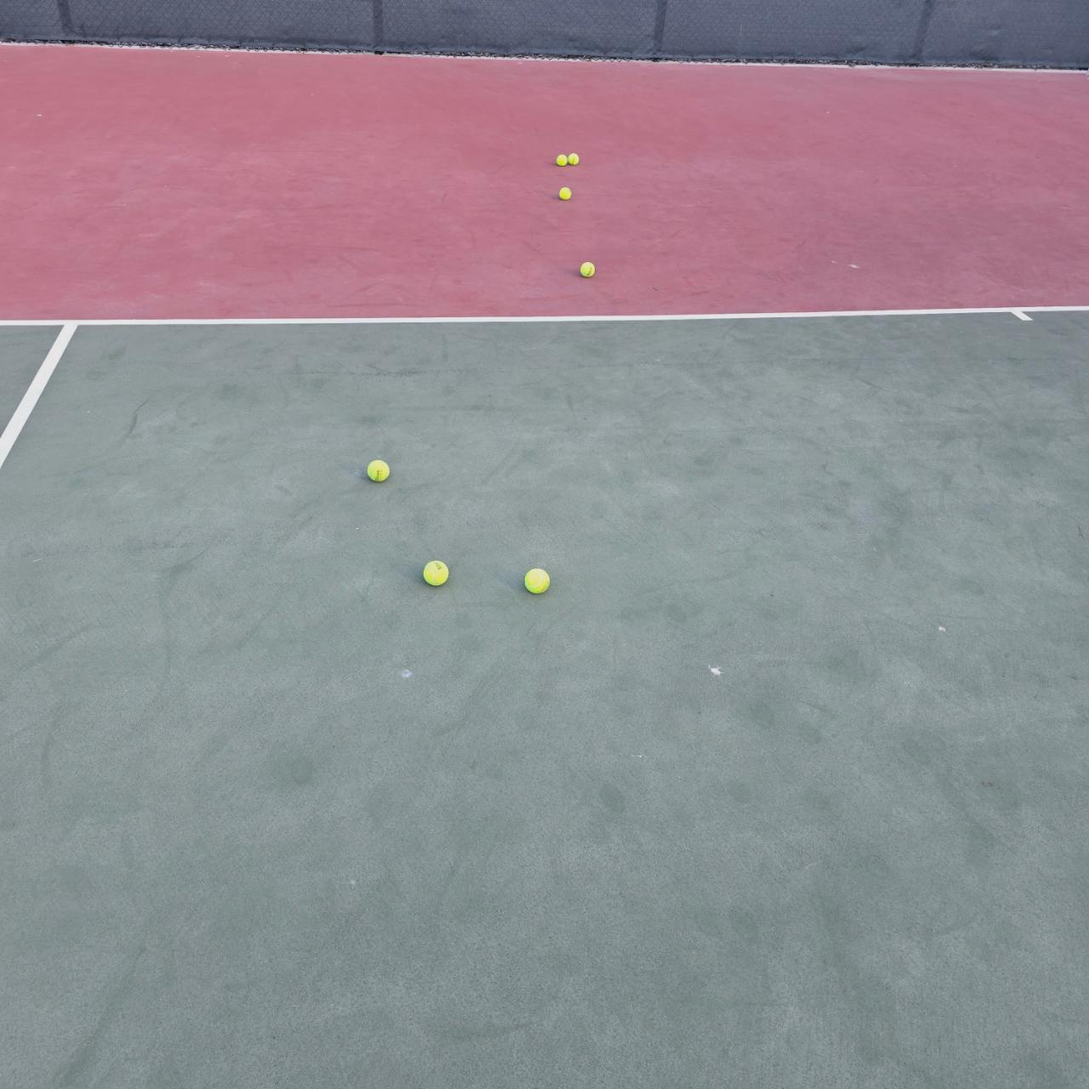tennis-ball: (421, 557, 449, 586), (522, 566, 550, 594), (365, 457, 390, 482), (578, 259, 595, 277), (557, 185, 572, 200), (556, 154, 568, 167), (568, 153, 580, 165)
